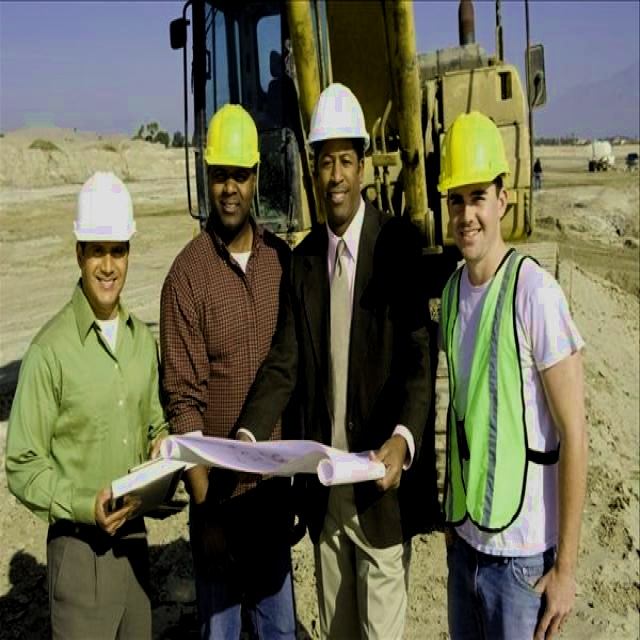Con_Casco: (437, 114, 503, 242), (306, 82, 369, 211), (74, 169, 134, 301), (203, 103, 259, 225)
Con_Chaleco: (437, 259, 575, 525)
Sin_Chaleco: (24, 301, 160, 527)
